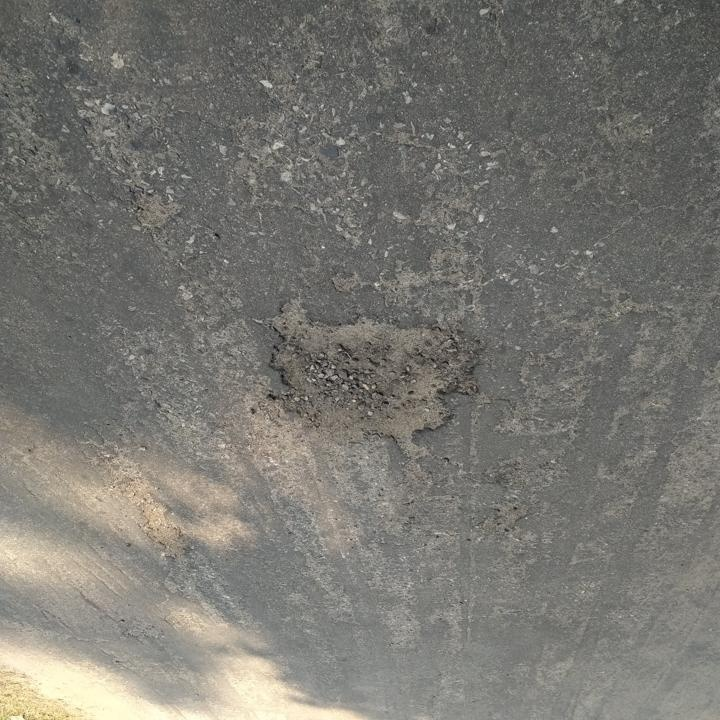pothole: (255, 298, 493, 457), (130, 186, 190, 234)
